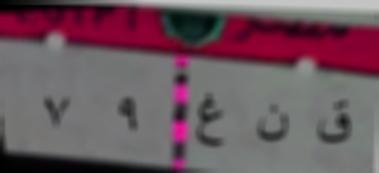7: (42, 91, 74, 133)
9: (116, 90, 144, 138)
ghayn: (194, 86, 228, 153)
noon: (252, 97, 290, 146)
qaaf: (310, 92, 355, 149)
